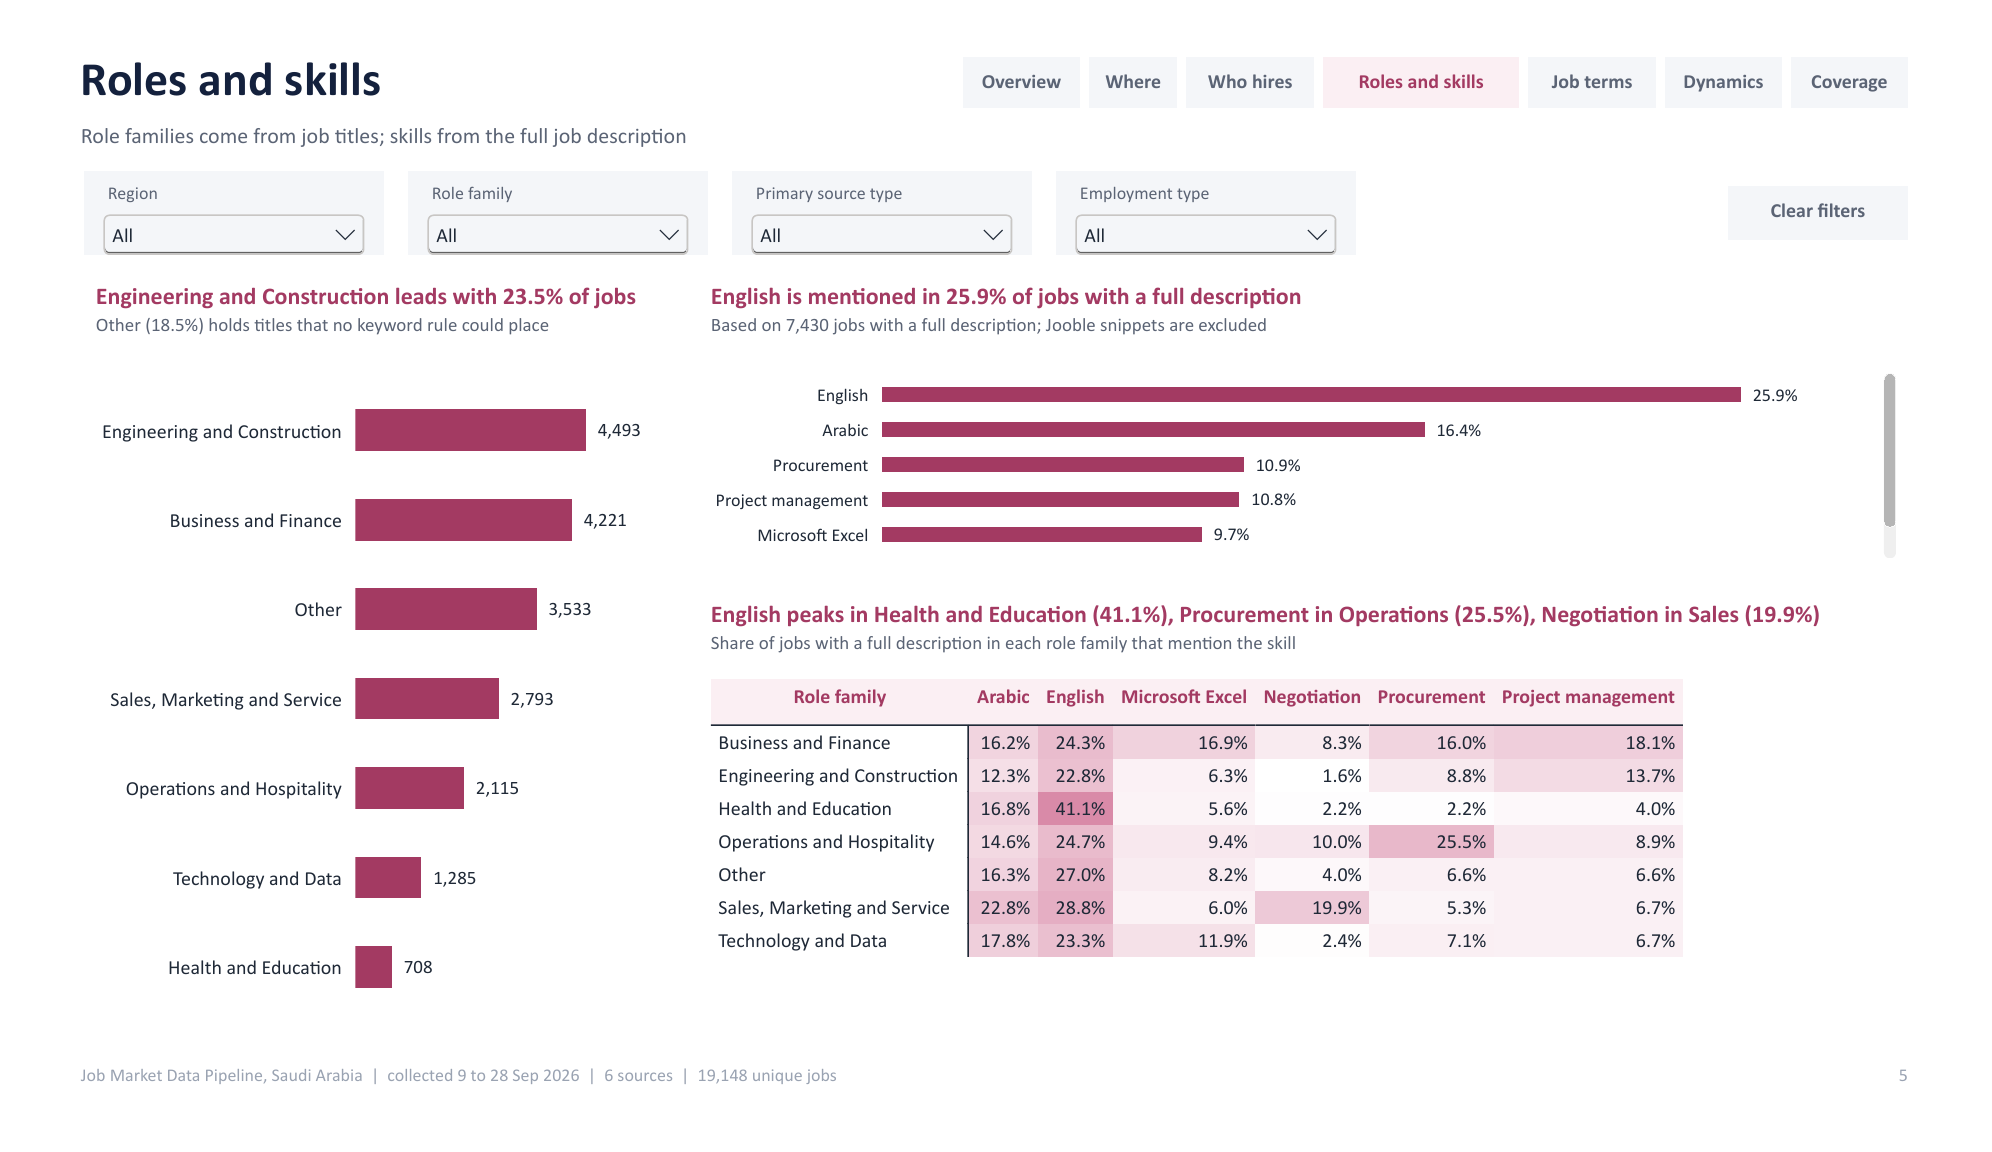

The page's visual inventory and layout, read from the dashboard file:
{"tool":"powerbi","page":{"name":"Roles and skills","canvas":[1280,720],"ordinal":4},"visuals":[{"type":"textbox","box":[22,2,660,60],"z":1000},{"type":"textbox","box":[22,50,760,36],"z":1100},{"type":"textbox","box":[618,14,78,34],"z":1200},{"type":"actionButton","box":[618,14,78,34],"z":1300},{"type":"textbox","box":[702,14,59,34],"z":1400},{"type":"actionButton","box":[702,14,59,34],"z":1500},{"type":"textbox","box":[767,14,85,34],"z":1600},{"type":"actionButton","box":[767,14,85,34],"z":1700},{"type":"textbox","box":[858,14,131,34],"z":1800},{"type":"textbox","box":[995,14,85,34],"z":1900},{"type":"actionButton","box":[995,14,85,34],"z":2000},{"type":"textbox","box":[1086,14,78,34],"z":2100},{"type":"actionButton","box":[1086,14,78,34],"z":2200},{"type":"textbox","box":[1170,14,78,34],"z":2300},{"type":"actionButton","box":[1170,14,78,34],"z":2400},{"type":"slicer","fields":{"Values":["DIM_LOCATION.REGION"]},"box":[32,90,200,56],"z":2500},{"type":"slicer","fields":{"Values":["DIM_ROLE.ROLE_FAMILY"]},"box":[248,90,200,56],"z":2600},{"type":"slicer","fields":{"Values":["DIM_SOURCE.SOURCE_TYPE"]},"box":[464,90,200,56],"z":2700},{"type":"slicer","fields":{"Values":["DIM_JOB_ATTRIBUTES.EMPLOYMENT_TYPE"]},"box":[680,90,200,56],"z":2800},{"type":"textbox","box":[1128,100,120,36],"z":2900},{"type":"actionButton","box":[1128,100,120,36],"z":3000},{"type":"textbox","box":[22,678,940,38],"z":3100},{"type":"textbox","box":[1160,678,96,38],"z":3200},{"type":"clusteredBarChart","title":"Engineering and Construction leads with 23.5% of jobs","fields":{"Category":["DIM_ROLE.ROLE_FAMILY"],"Y":["_Measures.Jobs"]},"box":[32,156,394,512],"z":3300},{"type":"clusteredBarChart","fields":{"Category":["DIM_SKILL.SKILL_NAME"],"Y":["_Measures.Skill Share %"]},"box":[442,156,806,200],"z":3400},{"type":"pivotTable","title":"English peaks in Health and Education (41.1%), Procurement in Operations (25.5%), Negotiation in Sales (19.9%)","fields":{"Columns":["DIM_SKILL.SKILL_NAME"],"Rows":["DIM_ROLE.ROLE_FAMILY"],"Values":["_Measures.Skill Share %"]},"box":[442,368,806,300],"z":3500}]}

Visuals, with their boxes in screenshot pixels (x1, y1, x2, y2), scaled from the page's 1280x720 canvas onto the 1992x1152 screenshot:
textbox: region(34, 3, 1061, 99)
textbox: region(34, 80, 1217, 138)
textbox: region(962, 22, 1083, 77)
actionButton: region(962, 22, 1083, 77)
textbox: region(1092, 22, 1184, 77)
actionButton: region(1092, 22, 1184, 77)
textbox: region(1194, 22, 1326, 77)
actionButton: region(1194, 22, 1326, 77)
textbox: region(1335, 22, 1539, 77)
textbox: region(1548, 22, 1681, 77)
actionButton: region(1548, 22, 1681, 77)
textbox: region(1690, 22, 1811, 77)
actionButton: region(1690, 22, 1811, 77)
textbox: region(1821, 22, 1942, 77)
actionButton: region(1821, 22, 1942, 77)
slicer - DIM_LOCATION.REGION: region(50, 144, 361, 234)
slicer - DIM_ROLE.ROLE_FAMILY: region(386, 144, 697, 234)
slicer - DIM_SOURCE.SOURCE_TYPE: region(722, 144, 1033, 234)
slicer - DIM_JOB_ATTRIBUTES.EMPLOYMENT_TYPE: region(1058, 144, 1370, 234)
textbox: region(1755, 160, 1942, 218)
actionButton: region(1755, 160, 1942, 218)
textbox: region(34, 1085, 1497, 1146)
textbox: region(1805, 1085, 1955, 1146)
"Engineering and Construction leads with 23.5% of jobs" clusteredBarChart: region(50, 250, 663, 1069)
clusteredBarChart - DIM_SKILL.SKILL_NAME x _Measures.Skill Share %: region(688, 250, 1942, 570)
"English peaks in Health and Education (41.1%), Procurement in Operations (25.5%), Negotiation in Sales (19.9%)" pivotTable: region(688, 589, 1942, 1069)
